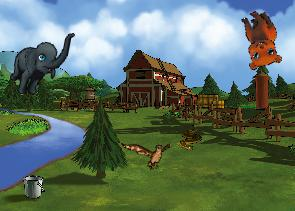bear: (227, 5, 289, 75)
eagle: (121, 129, 176, 177)
elephant: (7, 23, 75, 102)
